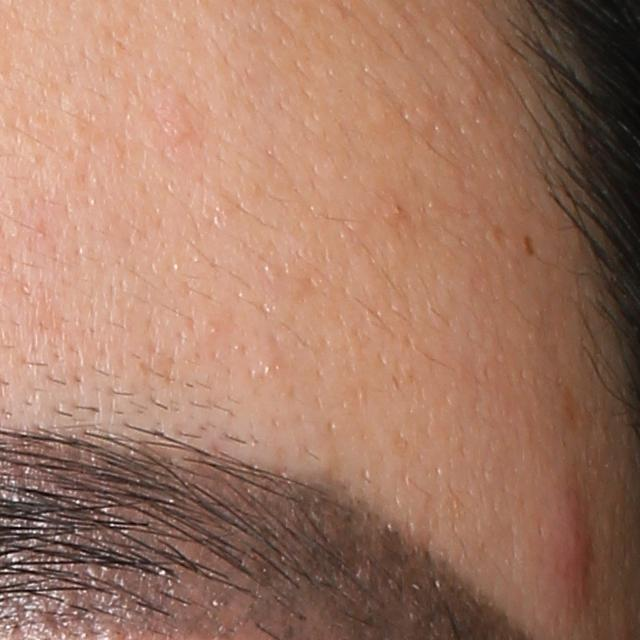nevus: (520, 230, 539, 258)
papule: (542, 507, 593, 581)
